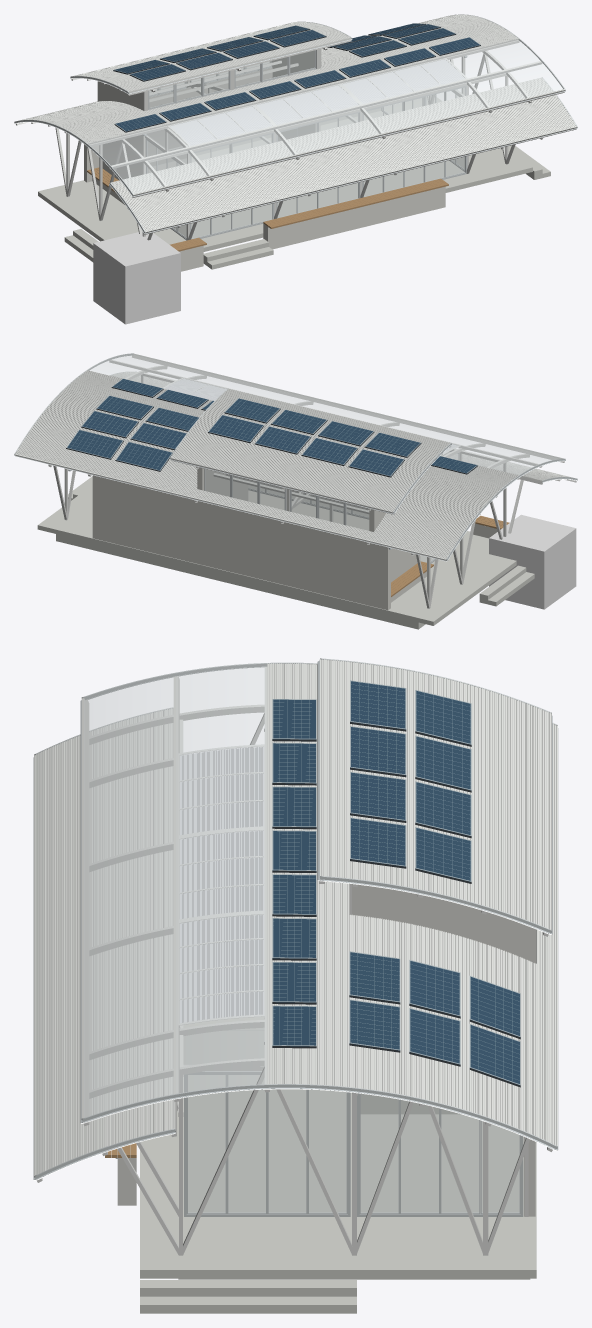
File: solarhouse_r9_pv_closed.glb
3 renders of one model, top to bottom at view 1: azimuth 30°, elevation 25°; view 2: azimuth 150°, elevation 25°; view 3: azimuth 270°, elevation 25°, orthographic. The views are drawn at different scales.
Parts seen in each view (by area): view 1: 主屋盖_连续玻璃整体, 下挑檐_曲面覆层, 平台_14280x6200_顶标高450, 主屋盖_顺檩条无缝分带, Cube, 高窗屋盖_连续曲面, 南侧长座凳_实体基座, 北后墙_高窗下实体, 高窗西侧实体墙, 檩条002_2, 南侧连续横梁_Z3.55, 高窗东侧室内隔墙 (+43 smaller); view 2: 主屋盖_顺檩条无缝分带, 高窗屋盖_连续曲面, 北后墙_高窗下实体, 平台_14280x6200_顶标高450, 主屋盖_连续玻璃整体, 北后墙_东侧会谈区, Cube, 平台基础_按DWG剖面, 檩条002_1, 下挑檐_曲面覆层, PV | rear east roof | module 05, PV | rear east roof | module 06 (+31 smaller); view 3: 主屋盖_连续玻璃整体, 平台_14280x6200_顶标高450, 下挑檐_曲面覆层, 主屋盖_顺檩条无缝分带, 高窗屋盖_连续曲面, 高窗东侧室内隔墙, 东立面_折叠门1_2600x2500_扇1_玻璃, 东立面_折叠门1_2600x2500_扇2_玻璃, 东立面_折叠门1_2600x2500_扇4_玻璃, 东立面_折叠门1_2600x2500_扇3_玻璃, 东立面_折叠门2_2600x2500_扇1_玻璃, 东入口踏步1_踏步300_踢面150 (+52 smaller).
Boxes of the visible parts, x1,y1,x2,y2 form: 主屋盖_连续玻璃整体: [88, 39, 563, 193]; 下挑檐_曲面覆层: [111, 77, 576, 232]; 平台_14280x6200_顶标高450: [38, 98, 532, 251]; 主屋盖_顺檩条无缝分带: [19, 14, 565, 195]; Cube: [93, 231, 180, 324]; 高窗屋盖_连续曲面: [72, 21, 351, 92]; 南侧长座凳_实体基座: [263, 186, 445, 249]; 北后墙_高窗下实体: [84, 68, 272, 182]; 高窗西侧实体墙: [97, 81, 148, 180]; 檩条002_2: [109, 61, 542, 169]; 南侧连续横梁_Z3.55: [147, 73, 506, 162]; 高窗东侧室内隔墙: [270, 50, 320, 141]; 主屋盖_顺檩条无缝分带: [14, 353, 563, 560]; 高窗屋盖_连续曲面: [170, 388, 450, 513]; 北后墙_高窗下实体: [197, 501, 390, 610]; 平台_14280x6200_顶标高450: [37, 485, 516, 625]; 主屋盖_连续玻璃整体: [89, 354, 562, 474]; 北后墙_东侧会谈区: [92, 475, 197, 563]; Cube: [489, 514, 576, 609]; 平台基础_按DWG剖面: [56, 534, 425, 629]; 檩条002_1: [132, 355, 564, 462]; 下挑檐_曲面覆层: [110, 371, 571, 481]; PV | rear east roof | module 05: [115, 441, 172, 471]; PV | rear east roof | module 06: [66, 429, 123, 459]; 主屋盖_连续玻璃整体: [84, 664, 266, 1117]; 平台_14280x6200_顶标高450: [140, 916, 536, 1278]; 下挑檐_曲面覆层: [34, 708, 175, 1176]; 主屋盖_顺檩条无缝分带: [81, 663, 557, 1146]; 高窗屋盖_连续曲面: [319, 659, 551, 929]; 高窗东侧室内隔墙: [352, 884, 535, 1114]; 东立面_折叠门1_2600x2500_扇1_玻璃: [188, 1075, 225, 1212]; 东立面_折叠门1_2600x2500_扇2_玻璃: [228, 1075, 265, 1212]; 东立面_折叠门1_2600x2500_扇4_玻璃: [309, 1090, 346, 1212]; 东立面_折叠门1_2600x2500_扇3_玻璃: [269, 1089, 305, 1212]; 东立面_折叠门2_2600x2500_扇1_玻璃: [361, 1094, 398, 1212]; 东入口踏步1_踏步300_踢面150: [140, 1296, 356, 1313].
Size of the model in its own units: 15.97 by 5.95 by 8.2.
